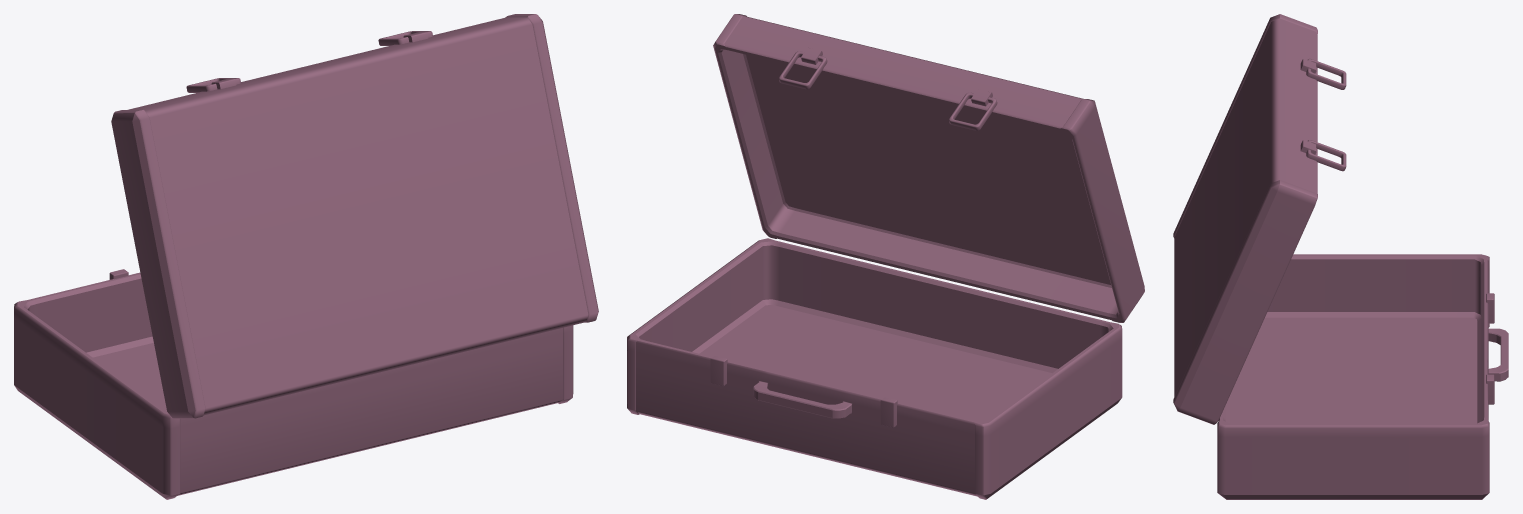
The model's file is luggage02Open 1.fbx.
3 views of the same model, side by side, from view 1: azimuth 30°, elevation 25°; view 2: azimuth 150°, elevation 25°; view 3: azimuth 270°, elevation 25° (orthographic). The views are drawn at different scales.
Visible parts, largest first — view 1: Luggage02Open; view 2: Luggage02Open; view 3: Luggage02Open.
Boxes of the visible parts, box(x1,y1,x2,y2) form: Luggage02Open: box(14, 14, 598, 499); Luggage02Open: box(627, 14, 1144, 499); Luggage02Open: box(1173, 14, 1508, 499).
Size of the model in its own units: 59.46 by 50.61 by 48.53.
